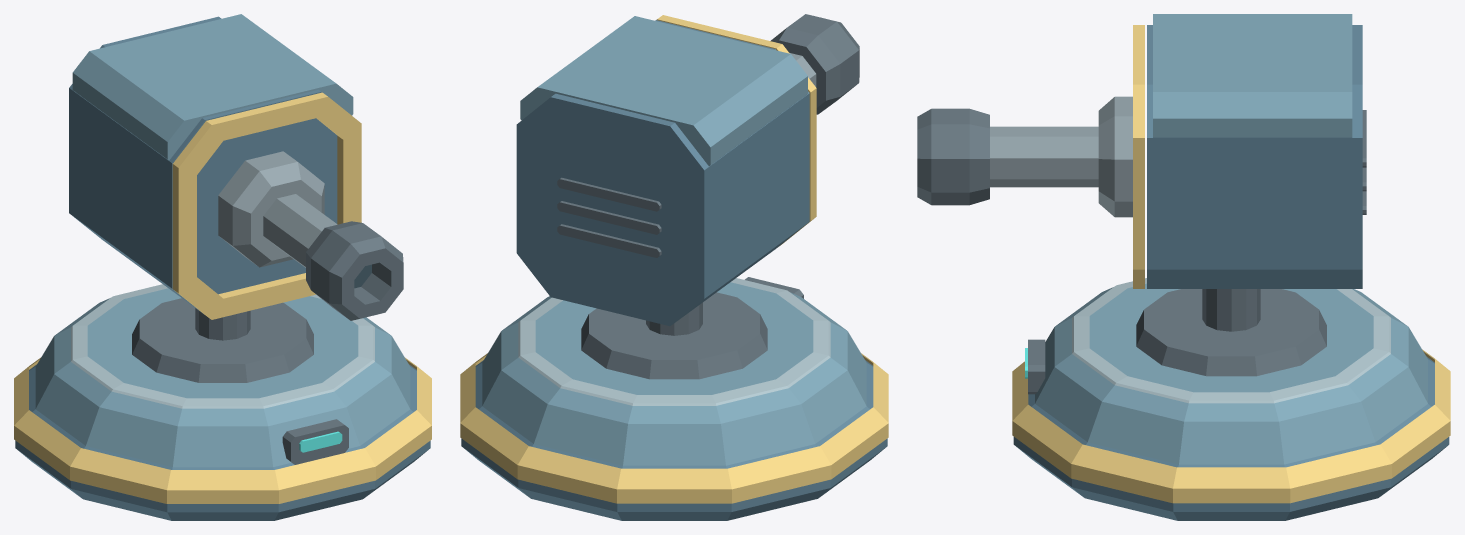
The model's file is Turret_PrecisionShot.fbx.
3 views of the same model, side by side, from view 1: azimuth 30°, elevation 25°; view 2: azimuth 150°, elevation 25°; view 3: azimuth 270°, elevation 25° (orthographic). The views are drawn at different scales.
Visible parts, largest first — view 1: PrecisionShot_Base, PrecisionShot_Turret; view 2: PrecisionShot_Base, PrecisionShot_Turret; view 3: PrecisionShot_Base, PrecisionShot_Turret.
Boxes of the visible parts, box(x1,y1,x2,y2) form: PrecisionShot_Base: box(14, 284, 431, 520); PrecisionShot_Turret: box(69, 14, 403, 320); PrecisionShot_Base: box(460, 277, 888, 520); PrecisionShot_Turret: box(516, 14, 859, 326); PrecisionShot_Base: box(1012, 278, 1450, 520); PrecisionShot_Turret: box(917, 14, 1366, 288).
Size of the model in its own units: 218 by 210 by 265.
